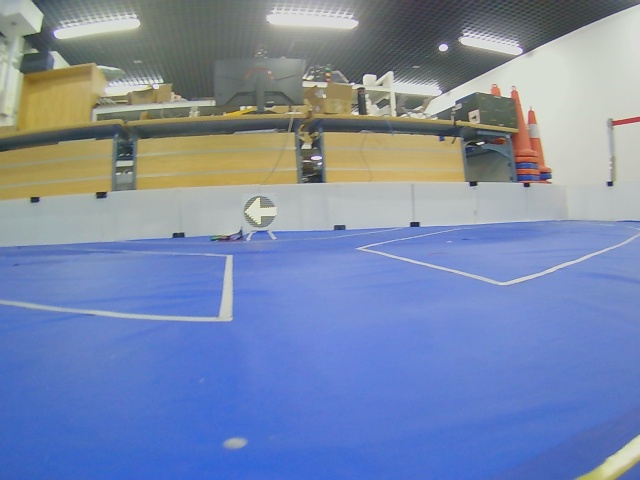left_yellow: (244, 196, 277, 228)
